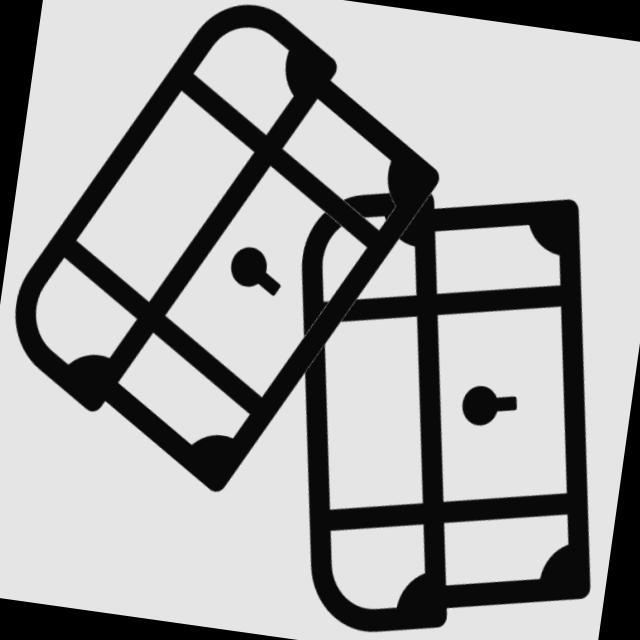treasure_box: (1, 1, 470, 536), (248, 153, 640, 640)
